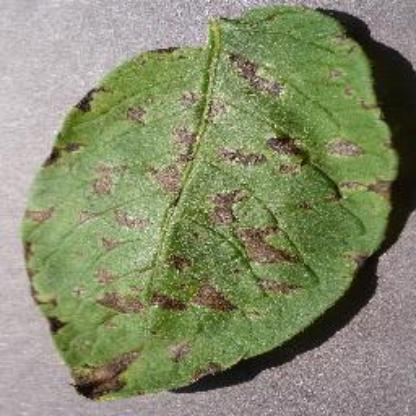Early-Blight: (22, 9, 405, 399)
